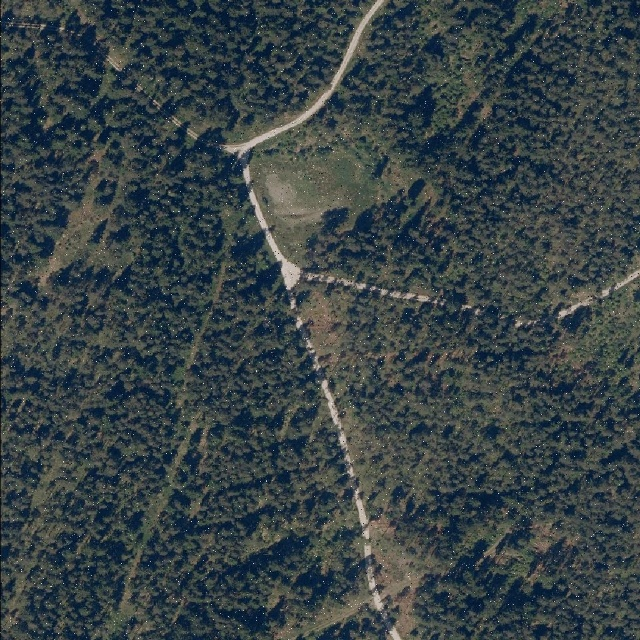vegetation: (2, 0, 393, 640), (301, 285, 639, 640), (260, 0, 639, 314)
